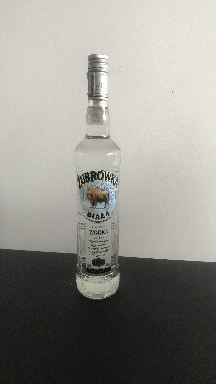butelka: (72, 50, 122, 303)
